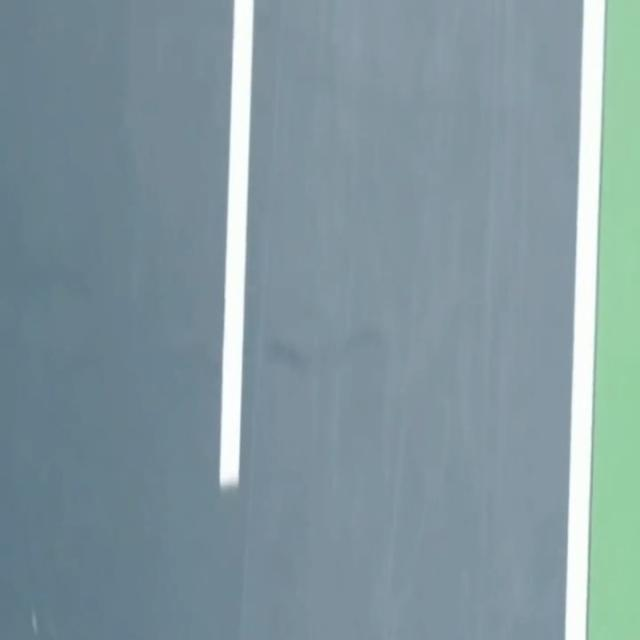center: (219, 0, 253, 489)
right: (565, 0, 604, 639)
